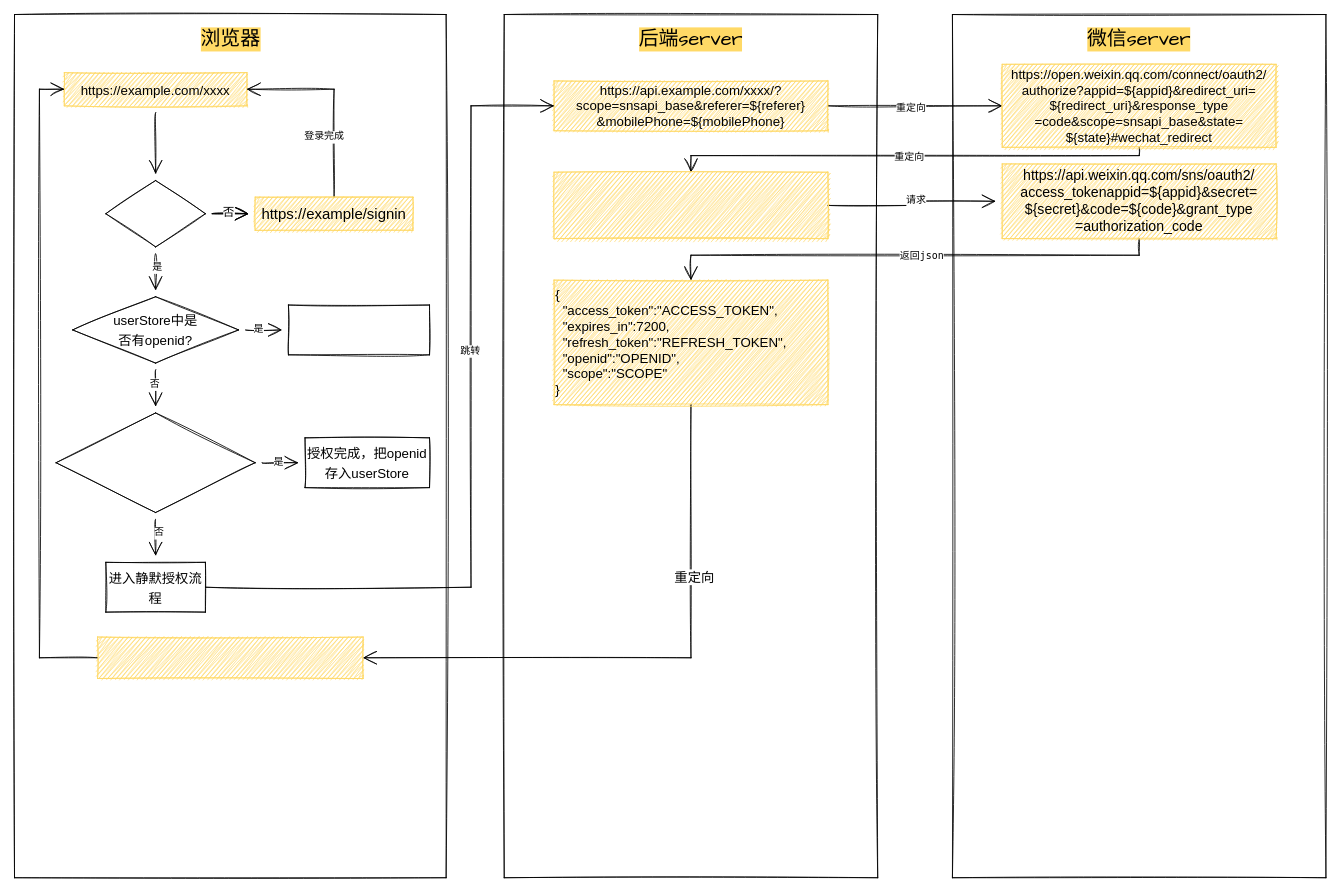
Image size: 1340x892. Some labels were removed from this diagram. Each missing label, with the centre of its shape:
https://example.com /xxxx ?openid=${openid} 是否携带openid？: (x=155, y=462)
https://example.com/xxxx?openid=${openid}: (x=230, y=657)
openid已与用户绑定关系，不需要再次授权: (x=359, y=329)
redirect_uri/?code=${code}&state=${state}: (x=690, y=205)
是否已登录？: (x=155, y=213)
